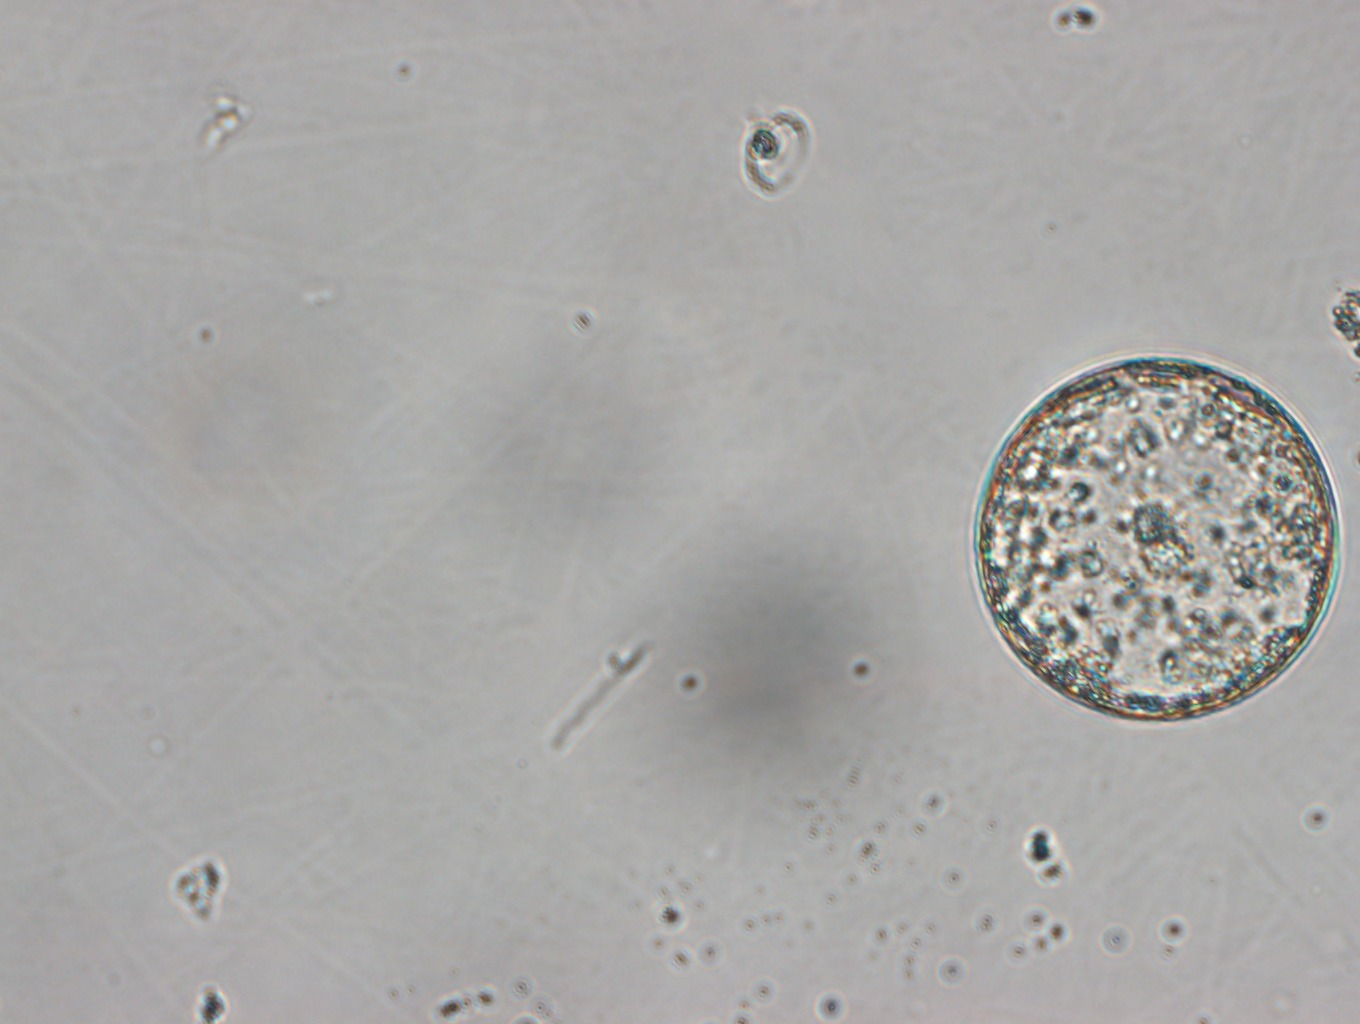coscinodiscus: (973, 352, 1342, 725)
